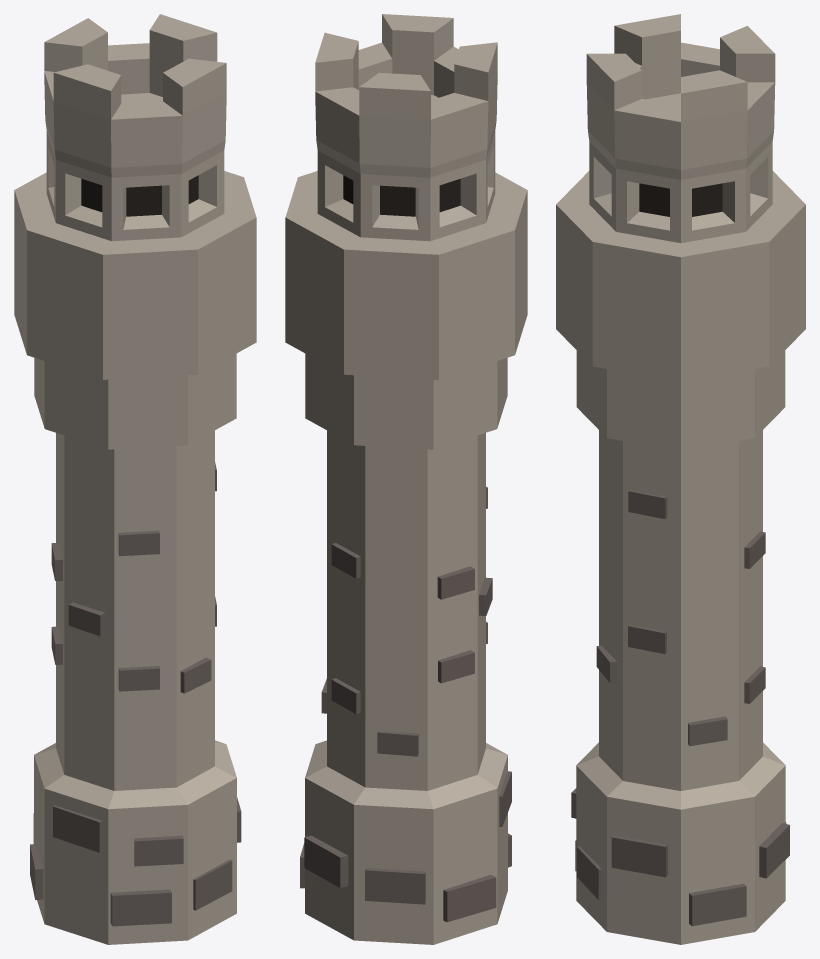
Rendered from tower.glb.
3 renders of one model, left to right at view 1: azimuth 30°, elevation 25°; view 2: azimuth 150°, elevation 25°; view 3: azimuth 270°, elevation 25°, orthographic.
Visible parts, largest first — view 1: Tower; view 2: Tower; view 3: Tower.
Part boxes in pixels (x1=…): Tower: x1=14, y1=14, x2=256, y2=944; Tower: x1=285, y1=14, x2=527, y2=944; Tower: x1=556, y1=14, x2=805, y2=944.
Size of the model in its own units: 0.2674 by 1 by 0.2674.
